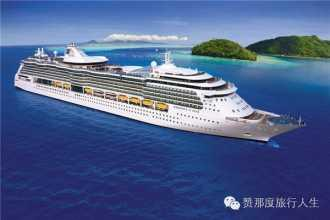youlun: (14, 38, 311, 148)
